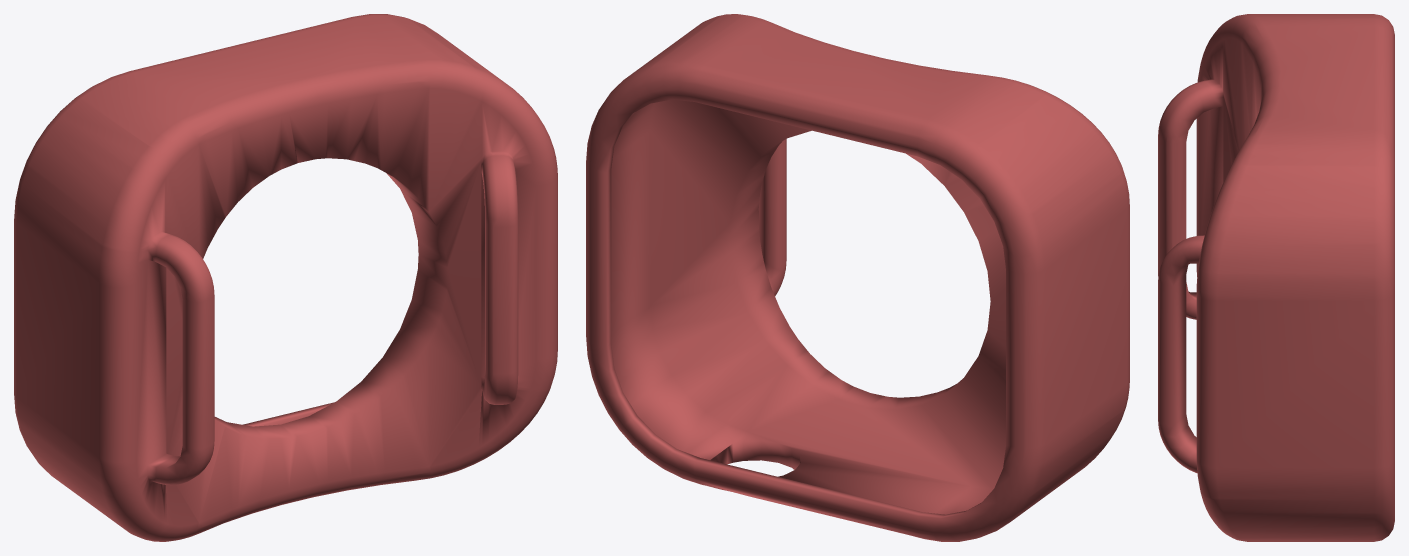
Rendered from applewatchattachment.glb.
The picture shows the model from 3 angles, left to right: view 1: azimuth 30°, elevation 25°; view 2: azimuth 150°, elevation 25°; view 3: azimuth 270°, elevation 25°; orthographic projection. The views are drawn at different scales.
Parts seen in each view (by area): view 1: mesh_mm1; view 2: mesh_mm1; view 3: mesh_mm1.
Boxes of the visible parts, <box> form: mesh_mm1: <box>14,14,557,541</box>; mesh_mm1: <box>586,14,1129,541</box>; mesh_mm1: <box>1158,14,1394,541</box>.
Bounding box in the file's own units: 48.88 × 42.84 × 22.99.
